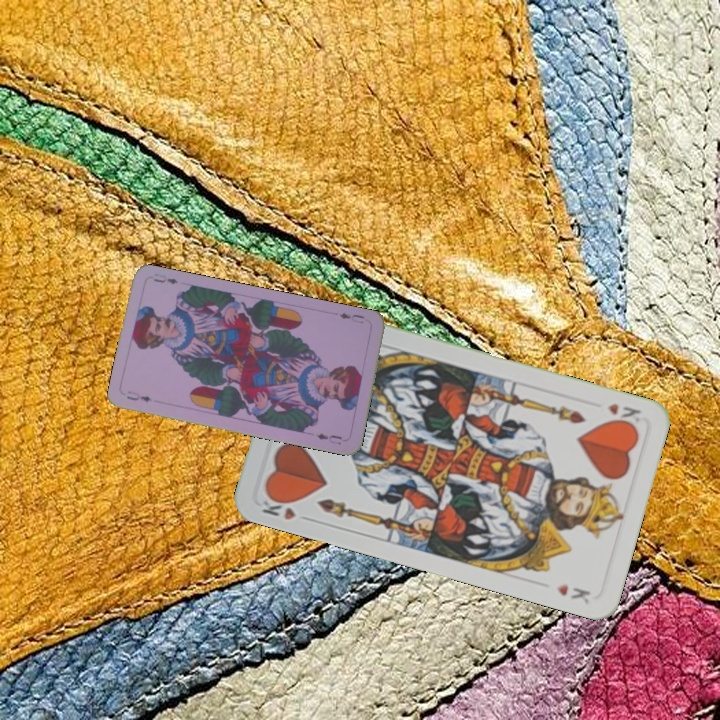EU: (335, 308, 367, 326), (123, 387, 154, 405)
HK: (258, 490, 314, 524), (603, 399, 644, 430)
